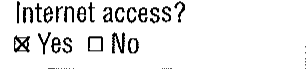NO: (85, 34, 104, 53)
YES: (11, 32, 31, 54)
